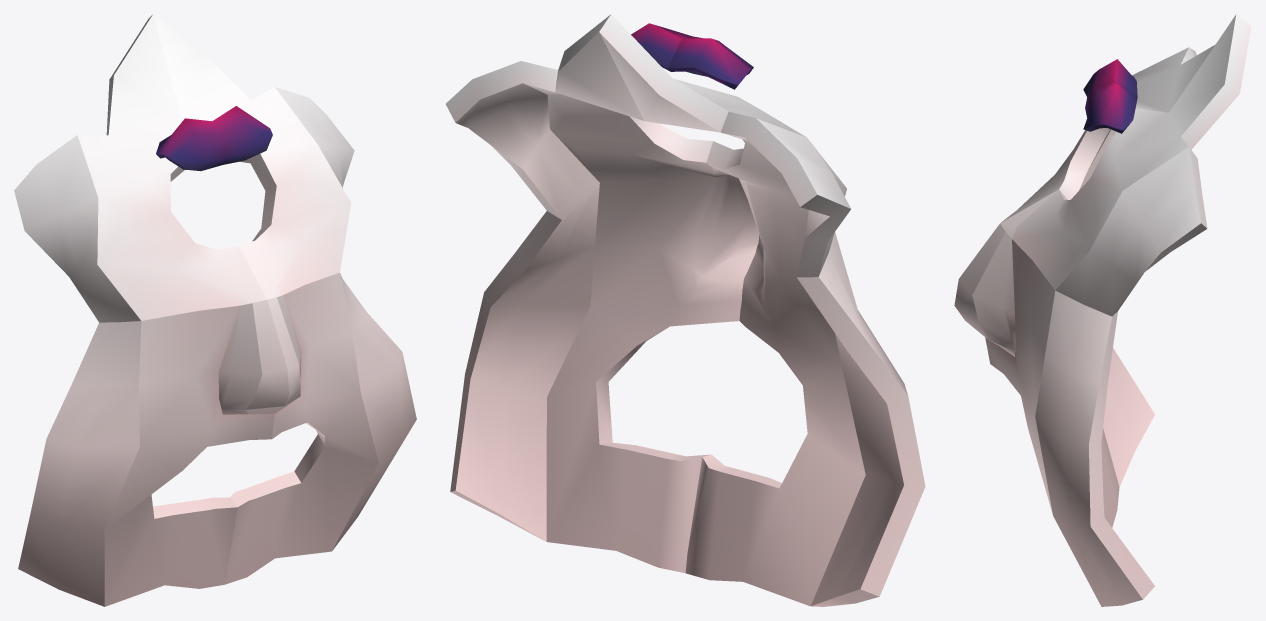
File: M_EnemyGhost_2_Mask.fbx
3 renders of one model, left to right at view 1: azimuth 30°, elevation 25°; view 2: azimuth 150°, elevation 25°; view 3: azimuth 270°, elevation 25°, orthographic. The views are drawn at different scales.
Visible parts, largest first — view 1: M_EnemyGhost_02_Mask; view 2: M_EnemyGhost_02_Mask; view 3: M_EnemyGhost_02_Mask.
Boxes of the visible parts, box(x1,y1,x2,y2) form: M_EnemyGhost_02_Mask: box(14, 14, 416, 606); M_EnemyGhost_02_Mask: box(445, 14, 925, 606); M_EnemyGhost_02_Mask: box(954, 14, 1251, 606).
Size of the model in its own units: 188 by 241 by 121.
